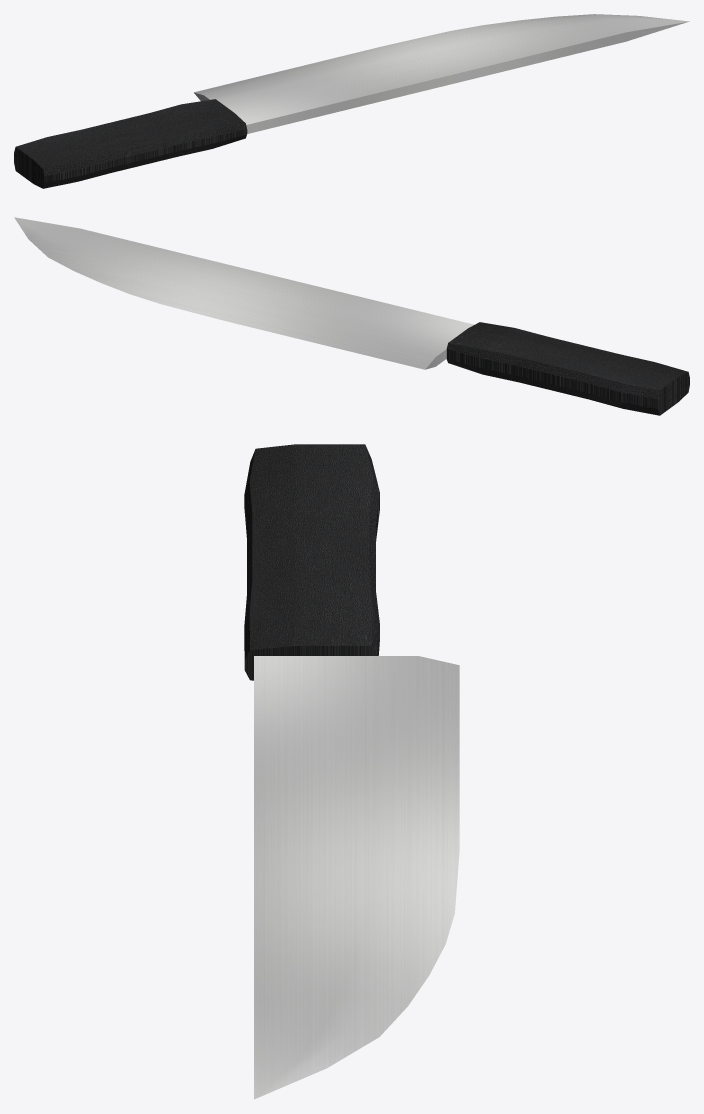
Rendered from Knife.fbx.
The picture shows the model from 3 angles, top to bottom: view 1: azimuth 30°, elevation 25°; view 2: azimuth 150°, elevation 25°; view 3: azimuth 270°, elevation 25°; orthographic projection. The views are drawn at different scales.
Parts seen in each view (by area): view 1: Kniff; view 2: Kniff; view 3: Kniff.
Part boxes in pixels (x1,y1,x2,y2): Kniff: (14,14,689,188); Kniff: (14,217,689,415); Kniff: (244,444,459,1099).
Size of the model in its own units: 7.26 by 0.26 by 1.05.
Materials: 2 (2 with a texture image).
